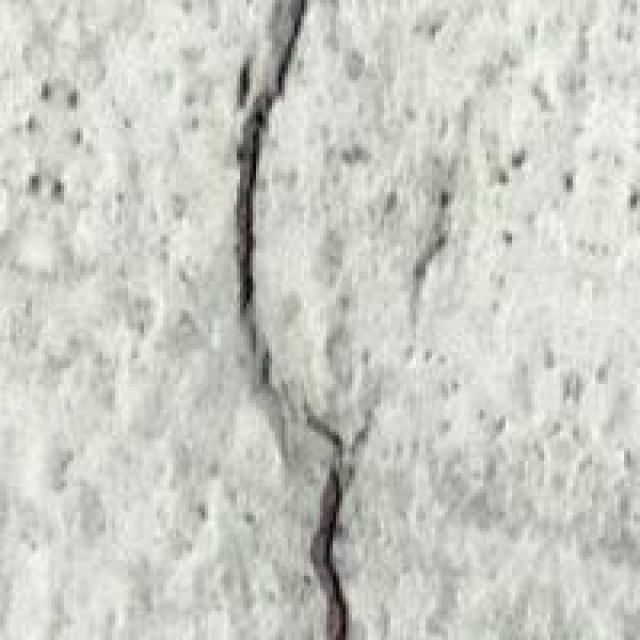crack: (192, 6, 394, 637)
